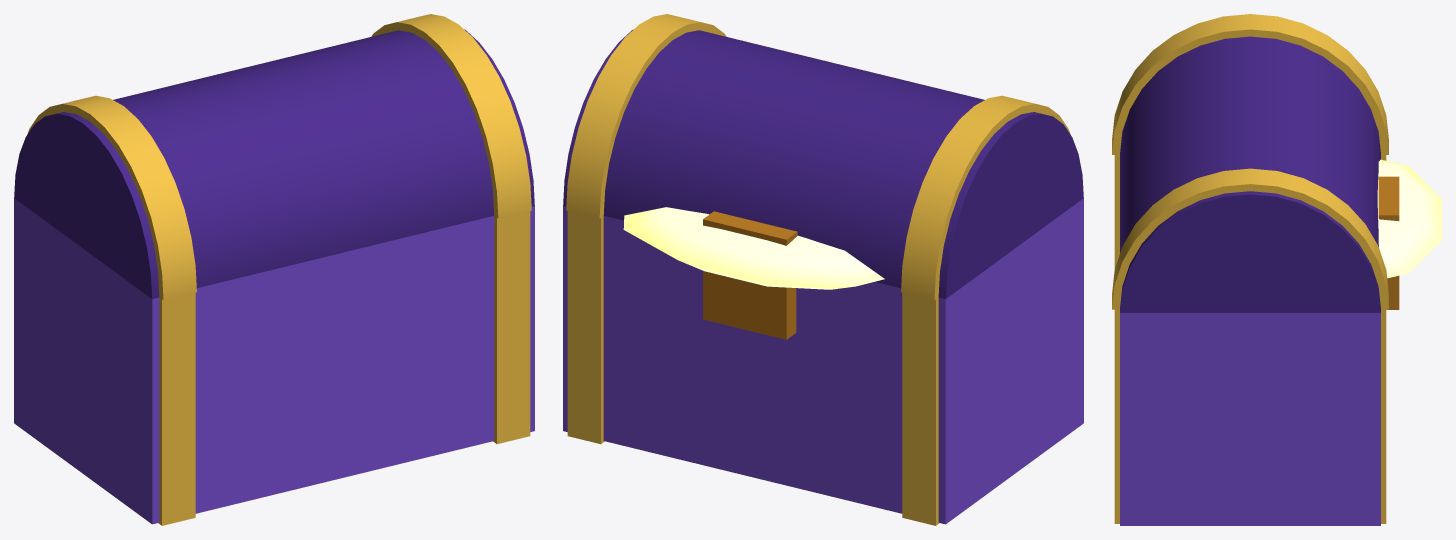
File: ChestRarity.glb
3 views of the same model, side by side, from view 1: azimuth 30°, elevation 25°; view 2: azimuth 150°, elevation 25°; view 3: azimuth 270°, elevation 25° (orthographic). The views are drawn at different scales.
Parts seen in each view (by area): view 1: Body; view 2: Body, Glow; view 3: Body, Glow.
Boxes of the visible parts, x1,y1,x2,y2 form: Body: (14, 14, 534, 525); Body: (563, 14, 1083, 525); Glow: (623, 207, 884, 289); Body: (1112, 14, 1399, 525); Glow: (1377, 159, 1441, 278).
Bounding box in the file's own units: 1.6 × 1.43 × 1.26.
Materials: 2 (1 with a texture image).
